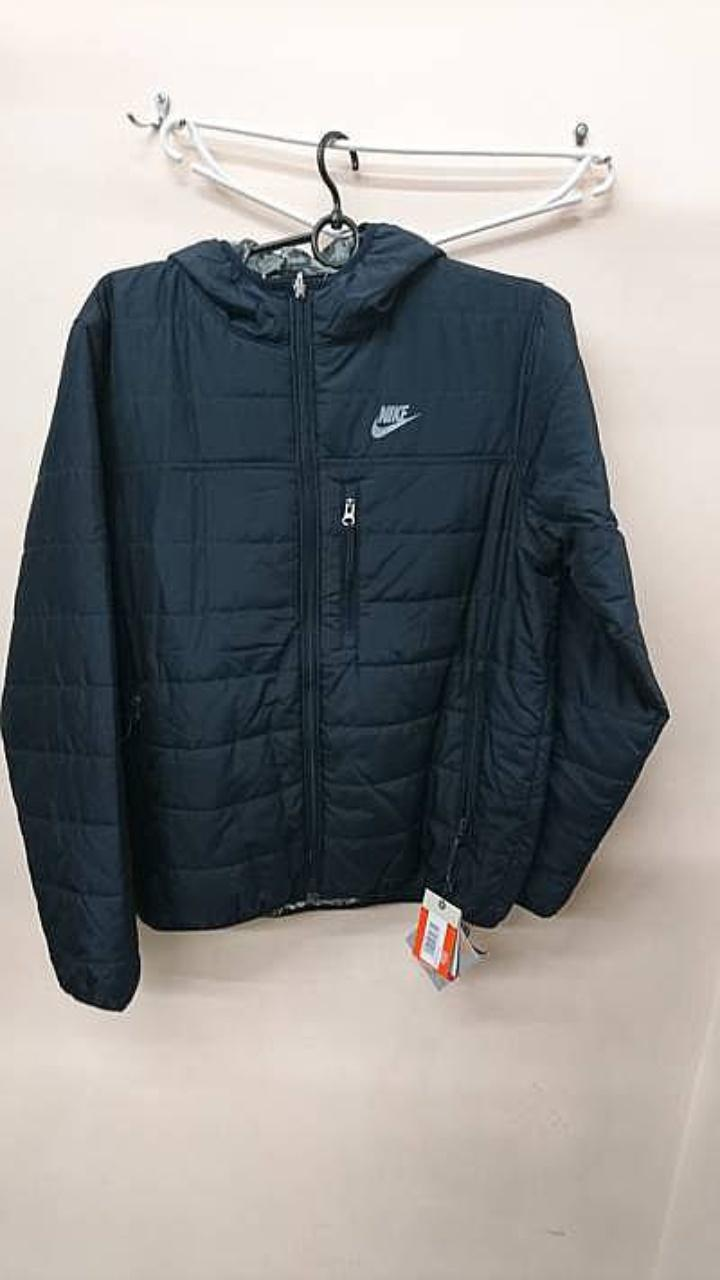Sports_Jacket: (1, 222, 668, 1009)
